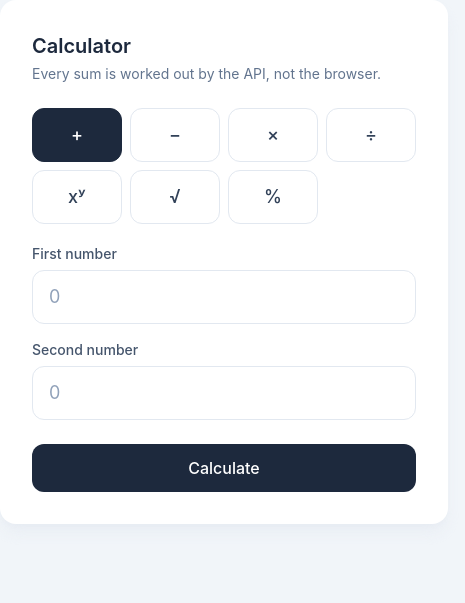
it: client-side validation › rejects an empty second operand
The width and height of the screenshot is (465, 603).
In the field labelled "First number": {"x": 224, "y": 297} [32,270,416,324], type "3"
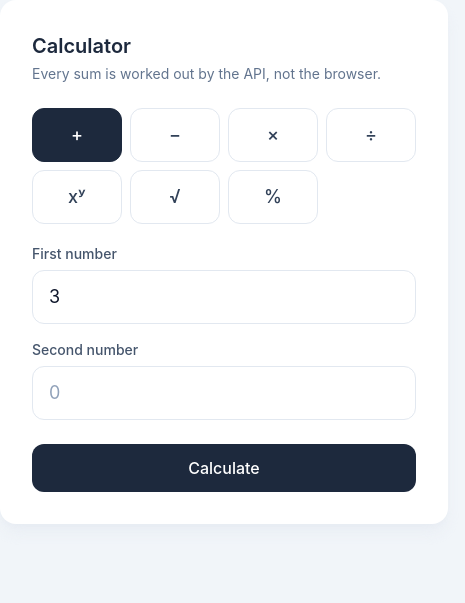
Click the button "Calculate": {"x": 224, "y": 468} [32,444,416,492]
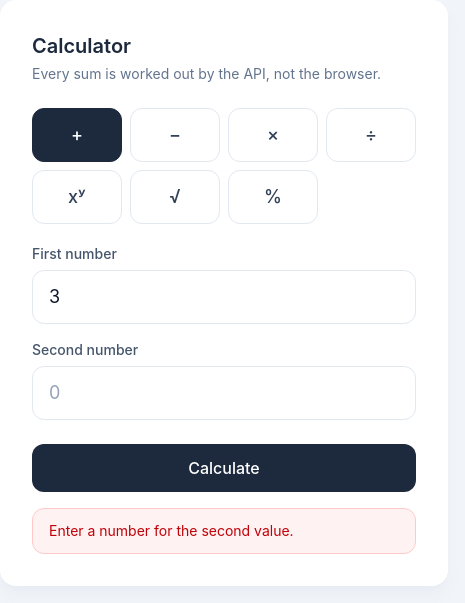
expect the message shows "second": met, box [49,522,294,539]
